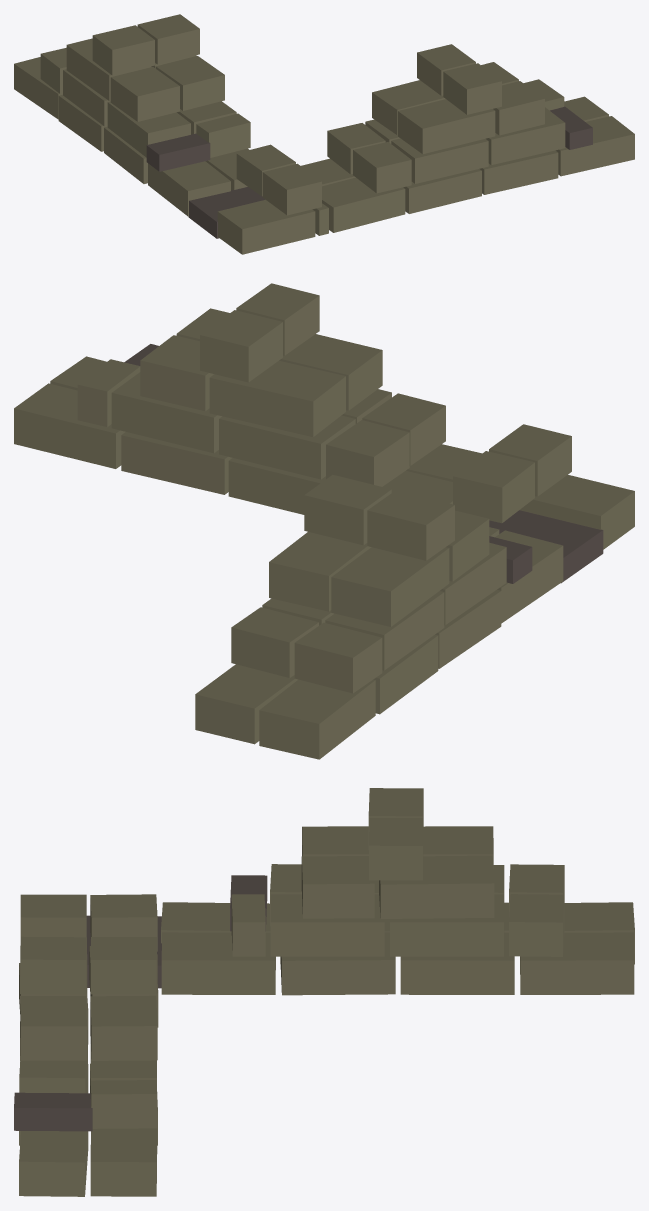
The model's file is SM_PretilEsquina_v1_Talud_e1_Danado_LOD0.fbx.
The picture shows the model from 3 angles, top to bottom: view 1: azimuth 30°, elevation 25°; view 2: azimuth 150°, elevation 25°; view 3: azimuth 270°, elevation 25°; orthographic projection. The views are drawn at different scales.
Parts seen in each view (by area): view 1: SM_pretil_azotea_v25_LOD0; view 2: SM_pretil_azotea_v25_LOD0; view 3: SM_pretil_azotea_v25_LOD0.
Part boxes in pixels (left/top/right/bottom): SM_pretil_azotea_v25_LOD0: left=14, top=14, right=634, bottom=254; SM_pretil_azotea_v25_LOD0: left=14, top=283, right=634, bottom=759; SM_pretil_azotea_v25_LOD0: left=14, top=788, right=634, bottom=1196.
Bounding box in the file's own units: 4.42 × 1.18 × 4.42.
